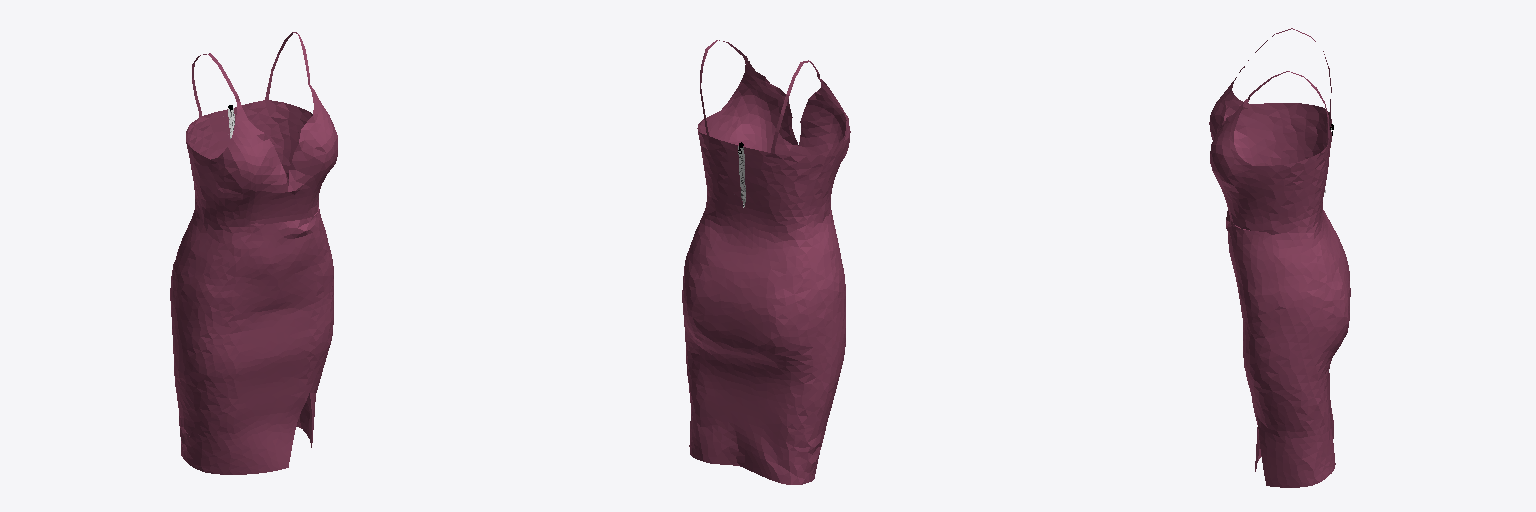
3 views of the same model, side by side, from view 1: azimuth 30°, elevation 25°; view 2: azimuth 150°, elevation 25°; view 3: azimuth 270°, elevation 25° (orthographic).
Visible parts, largest first — view 1: small_roseDress:polySurface1; view 2: small_roseDress:polySurface1; view 3: small_roseDress:polySurface1.
Boxes of the visible parts, <box> form: small_roseDress:polySurface1: <box>170,32,337,474</box>; small_roseDress:polySurface1: <box>682,40,850,484</box>; small_roseDress:polySurface1: <box>1209,28,1350,487</box>.
Size of the model in its own units: 326 by 878 by 270.
Materials: 13 (2 with a texture image).